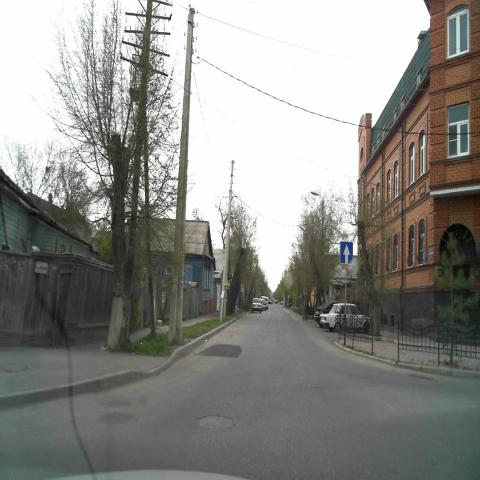5_5: (338, 240, 354, 264)
